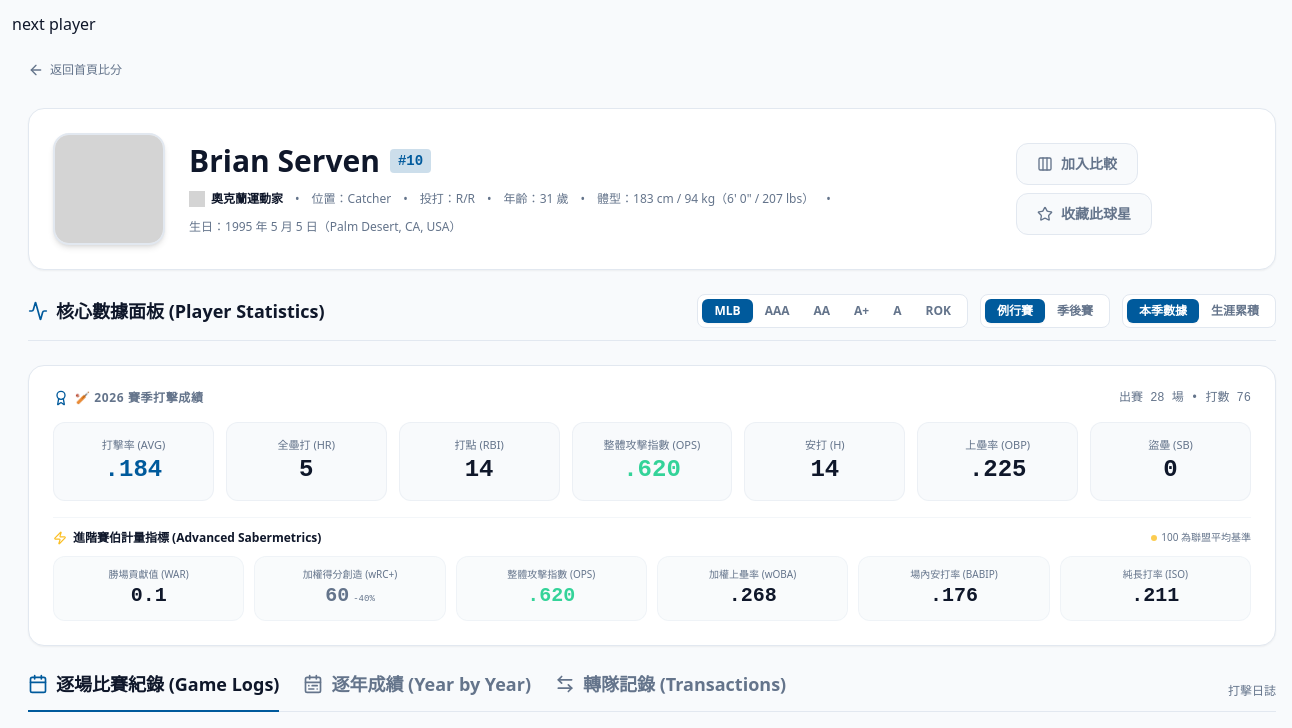
Test: PlayerDetailPage game logs › forgets the chosen level when moving on to another player
Click the button "AAA": (777, 311) [753,299,801,323]
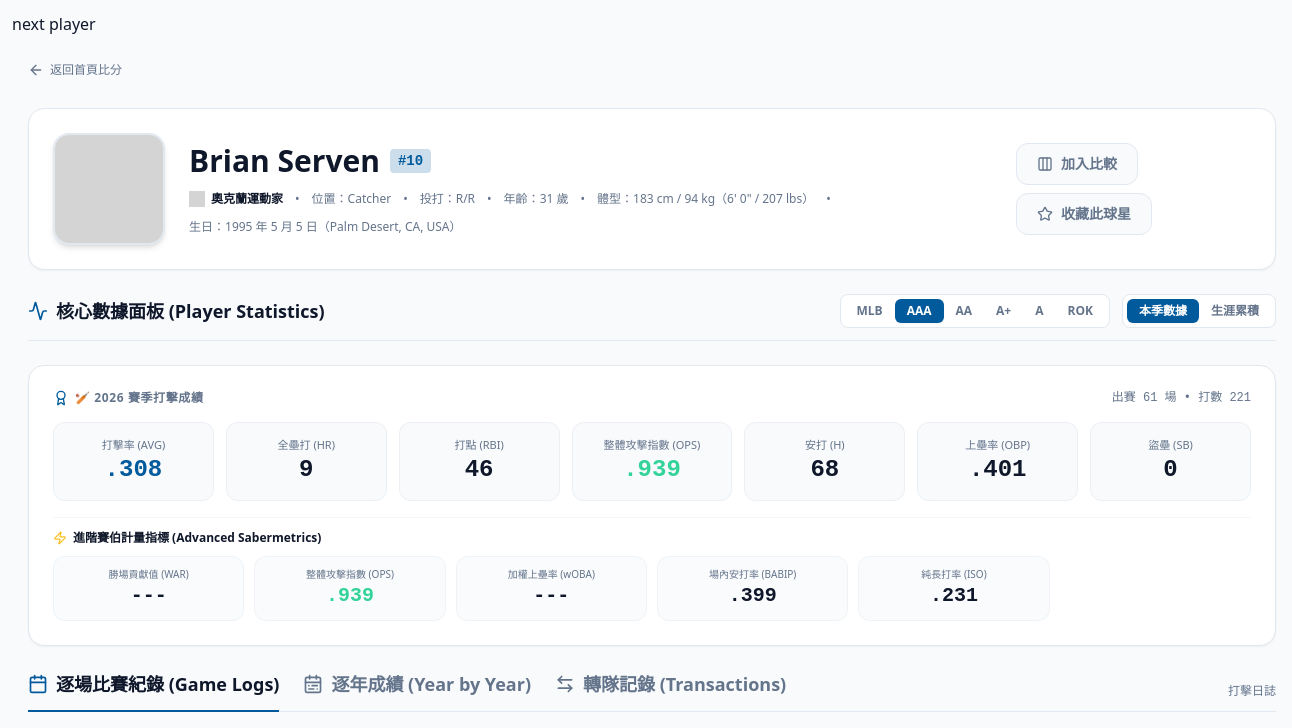
Click the link "next player": (54, 24) [12,13,96,35]
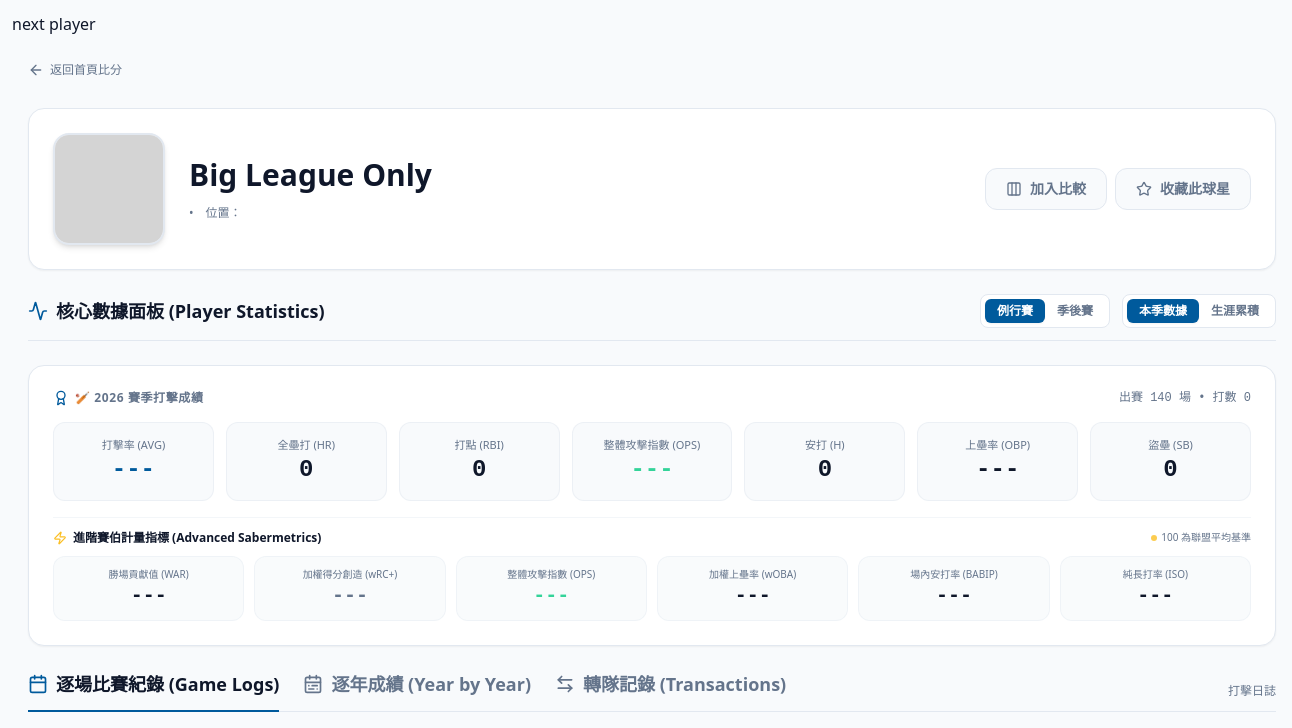
Now the text "出賽 140 場 • 打數 0" is shown, box [1119,390,1251,406]
